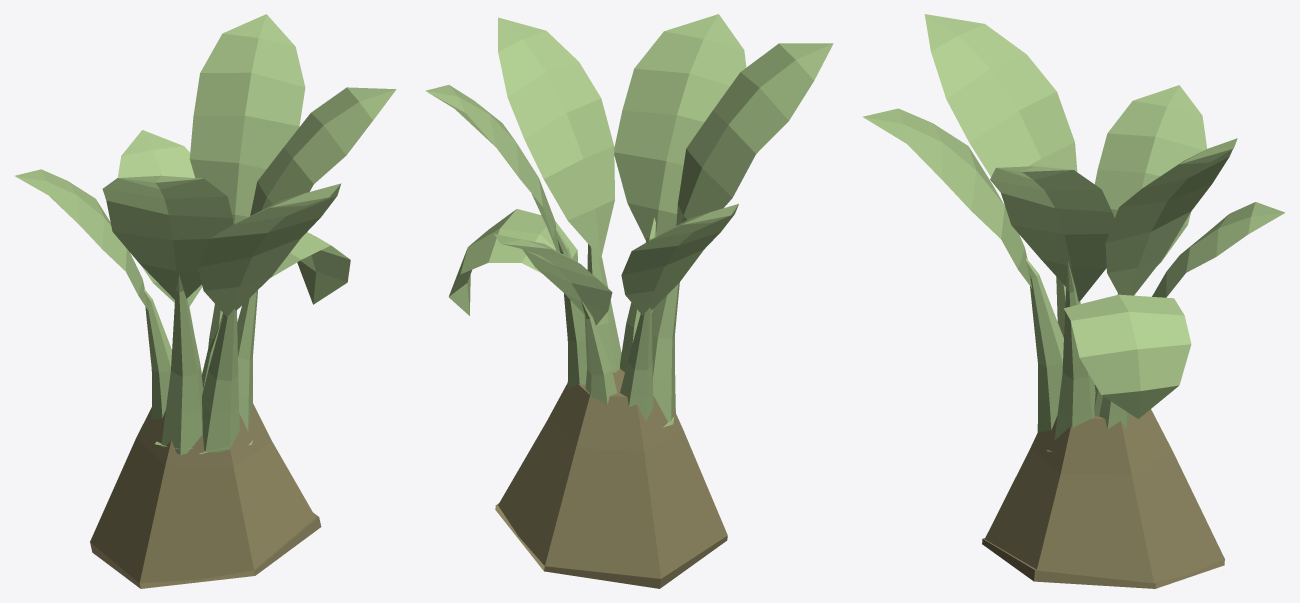
Rendered from Bananier_1_V001.fbx.
3 renders of one model, left to right at view 1: azimuth 30°, elevation 25°; view 2: azimuth 150°, elevation 25°; view 3: azimuth 270°, elevation 25°, orthographic. The views are drawn at different scales.
Visible parts, largest first — view 1: Sweep_3, Cube_1_5, Cube_1_2, Cube_1_7, Cube_1_6, Feuille_2, Feuille_7, Cube_1_3, Cube_1_4, Cube_1, Feuille_3, Feuille_6; view 2: Sweep_3, Cube_1_7, Cube_1_6, Cube_1_2, Cube_1_3, Cube_1, Cube_1_5, Cube_1_4, Feuille_2, Feuille_3, Feuille_4, Feuille_5 (+2 smaller); view 3: Sweep_3, Cube_1_2, Cube_1, Cube_1_6, Cube_1_5, Cube_1_3, Cube_1_7, Feuille_7, Cube_1_4, Feuille_6, Feuille_5.
Boxes of the visible parts, x1,y1,x2,y2 form: Sweep_3: (90,403,321,588); Cube_1_5: (189,14,305,224); Cube_1_2: (102,175,233,299); Cube_1_7: (198,183,341,316); Cube_1_6: (250,87,396,215); Feuille_2: (161,274,203,454); Feuille_7: (202,309,239,452); Cube_1_3: (15,169,148,310); Cube_1_4: (117,130,202,307); Cube_1: (270,232,350,304); Feuille_3: (144,288,171,419); Feuille_6: (237,290,257,431); Sweep_3: (495,383,727,588); Cube_1_7: (614,14,746,240); Cube_1_6: (498,17,614,257); Cube_1_2: (676,43,833,225); Cube_1_3: (621,203,738,315); Cube_1: (449,209,577,315); Cube_1_5: (425,85,560,252); Cube_1_4: (494,234,612,325); Feuille_2: (651,282,679,422); Feuille_3: (620,307,653,421); Feuille_4: (580,299,616,404); Feuille_5: (555,228,586,388); Sweep_3: (982,409,1224,588); Cube_1_2: (924,14,1077,176); Cube_1: (1064,294,1191,418); Cube_1_6: (990,166,1114,301); Cube_1_5: (1105,138,1237,295); Cube_1_3: (1094,85,1207,265); Cube_1_7: (862,108,1031,287); Feuille_7: (1026,258,1063,431); Cube_1_4: (1152,202,1284,297); Feuille_6: (1054,260,1095,439); Feuille_5: (1099,396,1130,428).
Size of the model in its own units: 196 by 287 by 224.
